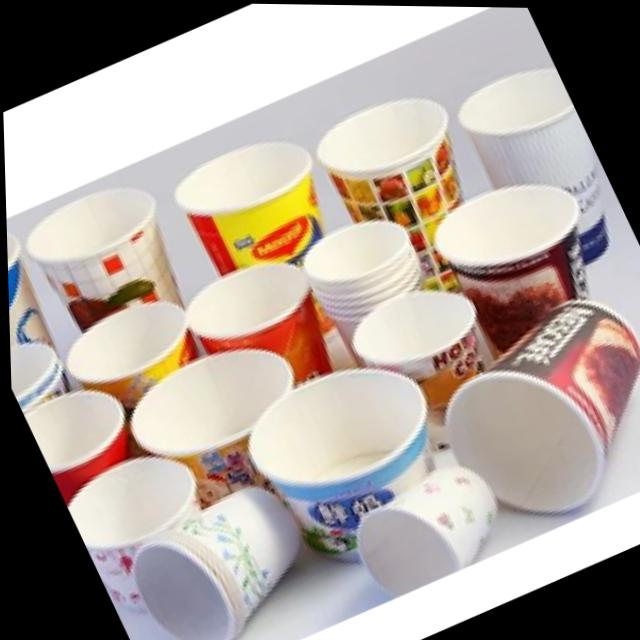paper_cups: (226, 339, 479, 585), (411, 280, 640, 546), (442, 50, 640, 293), (106, 469, 331, 640), (54, 436, 231, 621), (334, 451, 513, 603), (8, 327, 115, 501)
